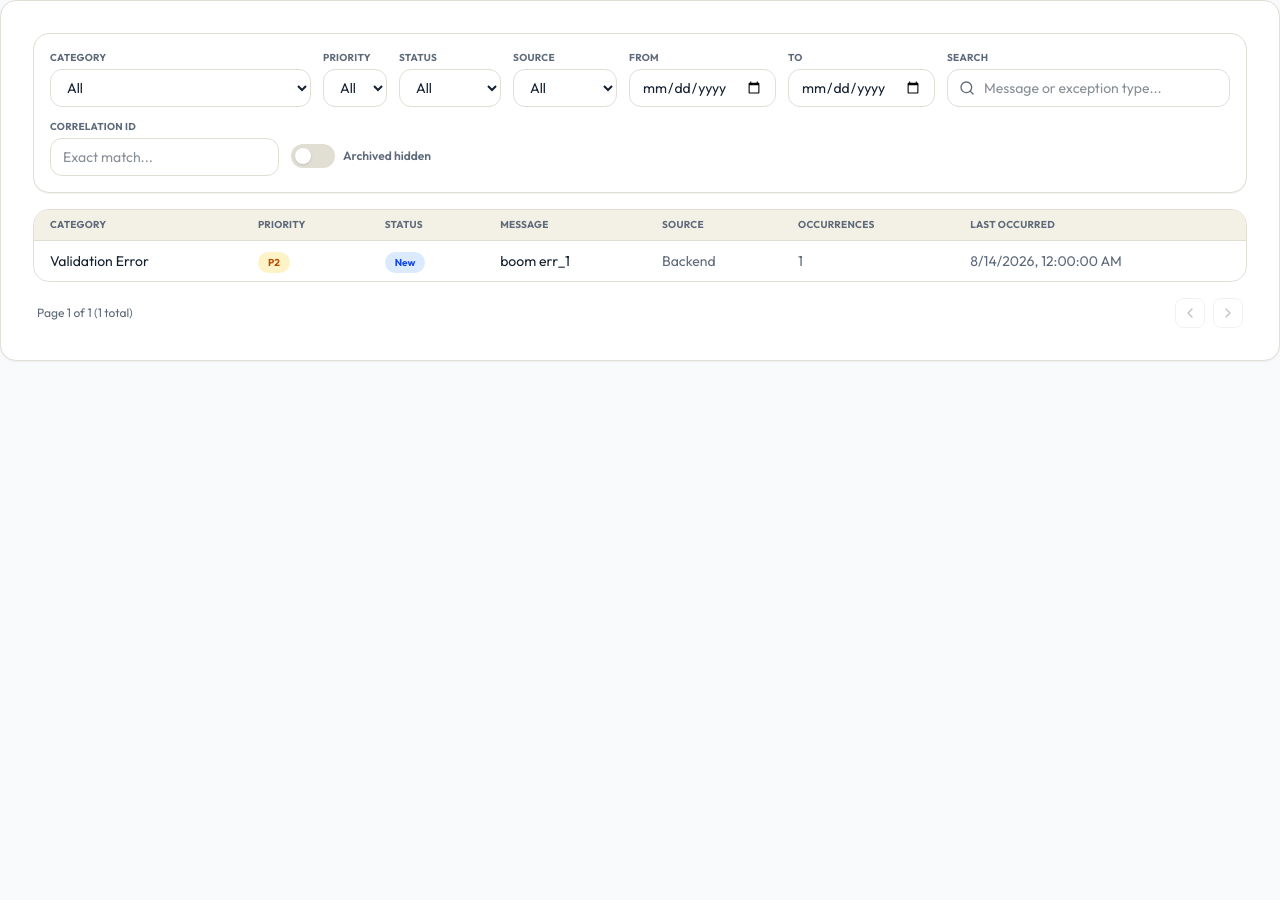
Test: ErrorLog › clicking a row opens the detail panel for that row
The width and height of the screenshot is (1280, 900).
Click the text "boom err_1" at (565, 261), box [484, 241, 646, 281]
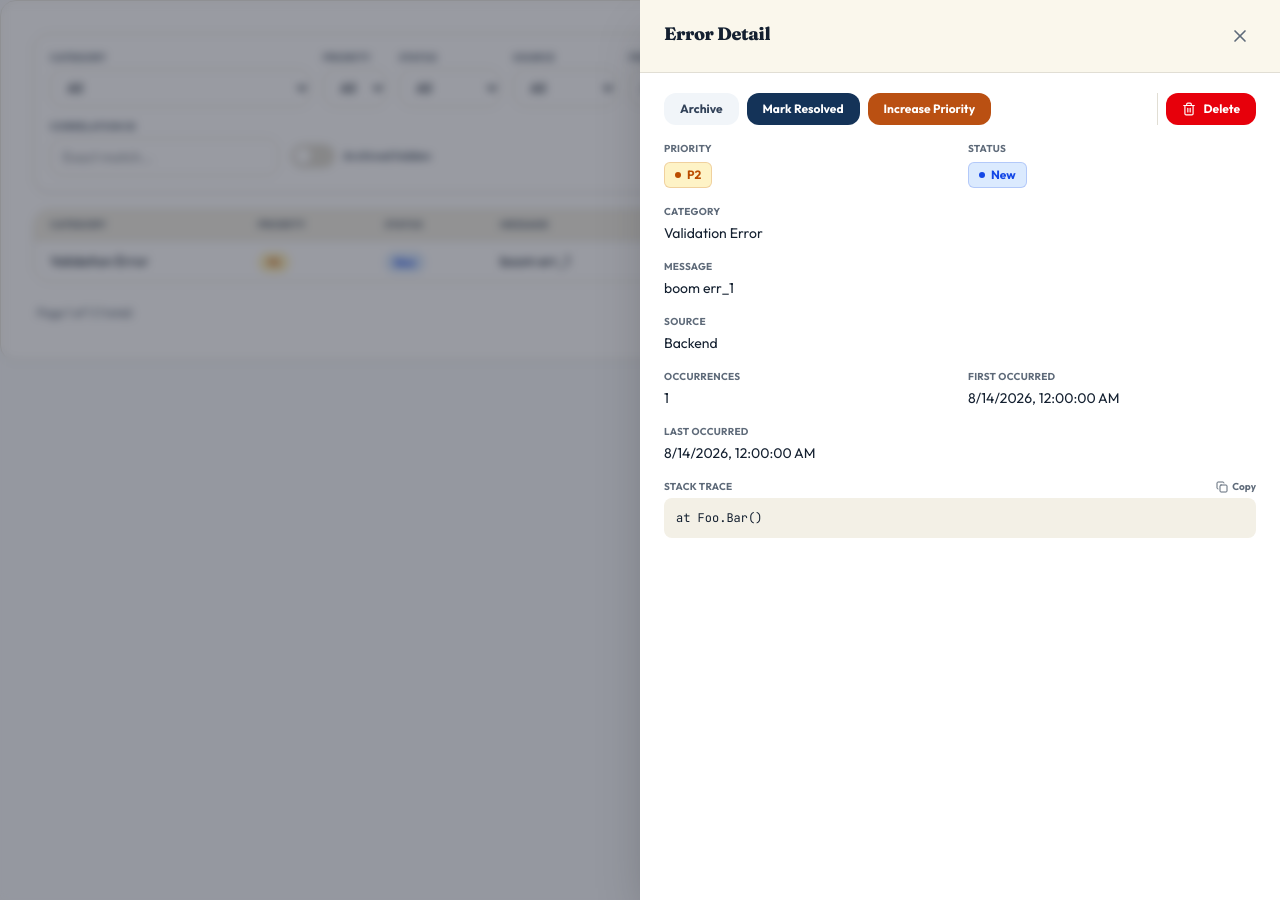
expect the text "at Foo.Bar()" is shown: met, box [664, 498, 1256, 538]
